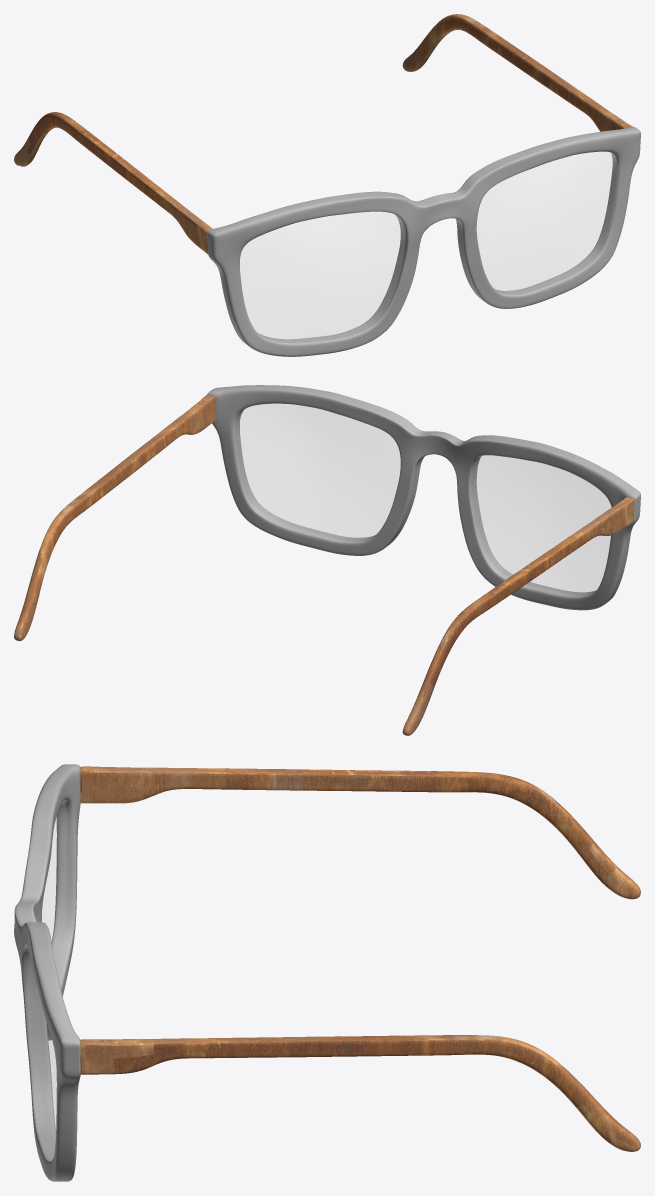
File: grey.gltf
3 renders of one model, top to bottom at view 1: azimuth 30°, elevation 25°; view 2: azimuth 150°, elevation 25°; view 3: azimuth 270°, elevation 25°, orthographic. The views are drawn at different scales.
Parts seen in each view (by area): view 1: Glasses_3, Frame_1, Handles_2; view 2: Glasses_3, Frame_1, Handles_2; view 3: Handles_2, Frame_1, Glasses_3.
Part boxes in pixels (x1,y1,x2,y2): Glasses_3: (240,152,617,342); Frame_1: (207,127,640,356); Handles_2: (14,14,632,254); Glasses_3: (237,404,610,594); Frame_1: (207,385,640,610); Handles_2: (14,394,634,735); Handles_2: (80,766,640,1151); Frame_1: (14,764,80,1181); Glasses_3: (28,801,66,1160).
Bounding box in the file's own units: 1.41 × 0.4825 × 1.33.
3 materials, 1 textured.
